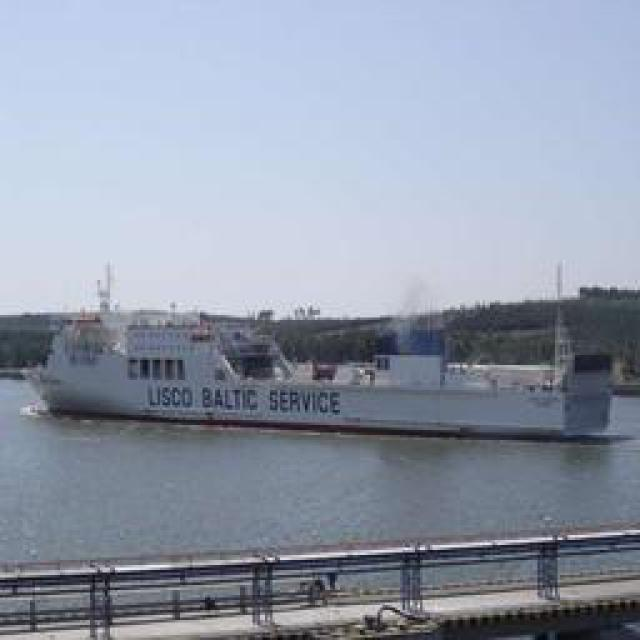Ship: (36, 295, 634, 440)
